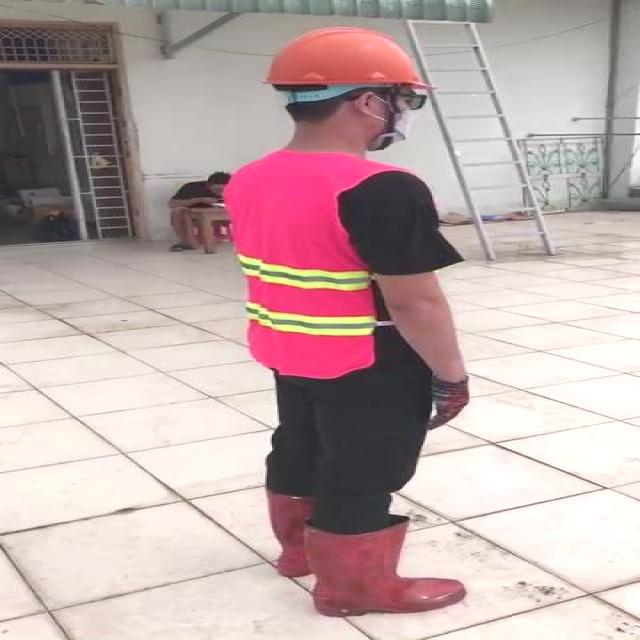boots: (302, 522, 468, 617), (255, 486, 397, 584)
hand_glove: (427, 377, 469, 430)
head_helmet: (262, 25, 433, 88)
person: (207, 22, 515, 624)
vest: (226, 151, 396, 377)
